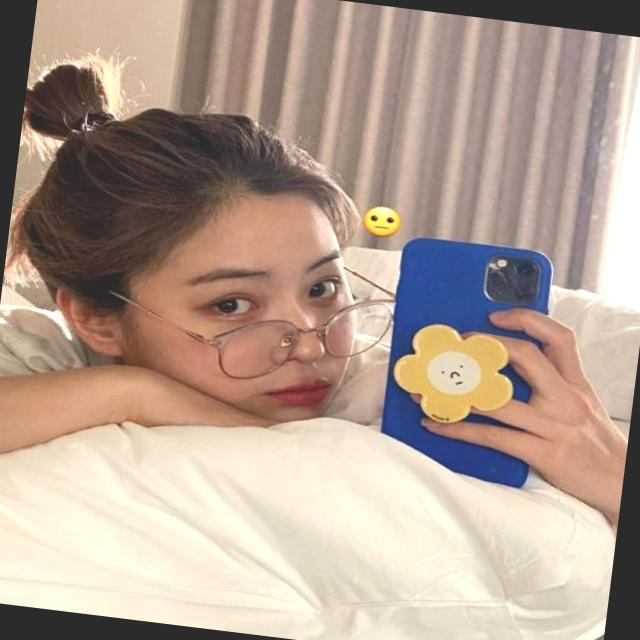lens_back: (486, 267, 511, 295), (512, 282, 536, 306), (517, 258, 537, 281)
phone: (372, 230, 562, 494)
